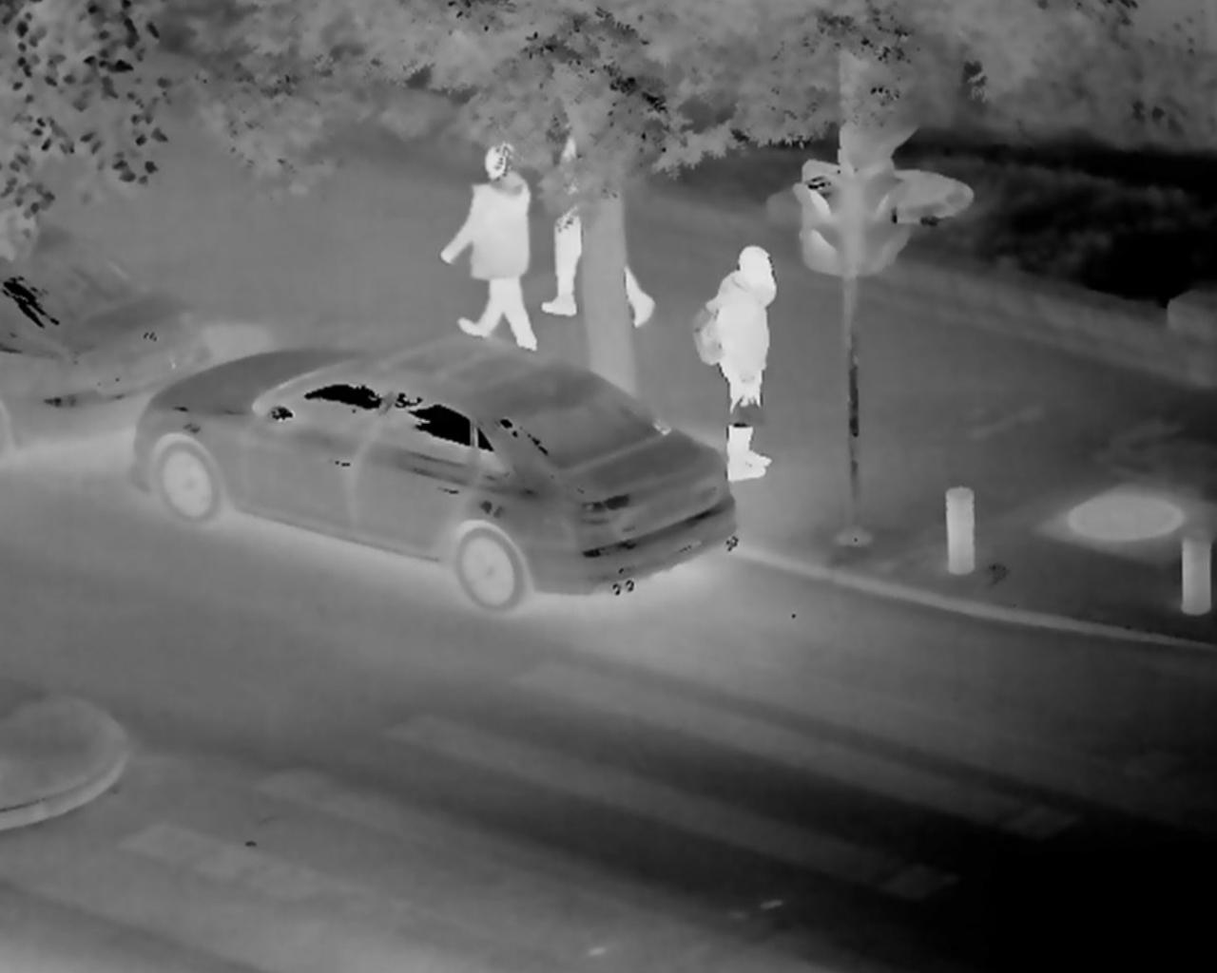person: (542, 117, 659, 344), (433, 143, 547, 357), (701, 242, 776, 486)
